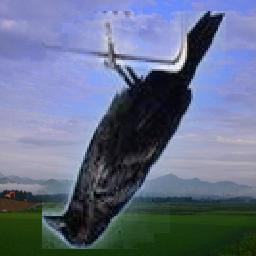Crow: (42, 11, 226, 249)
